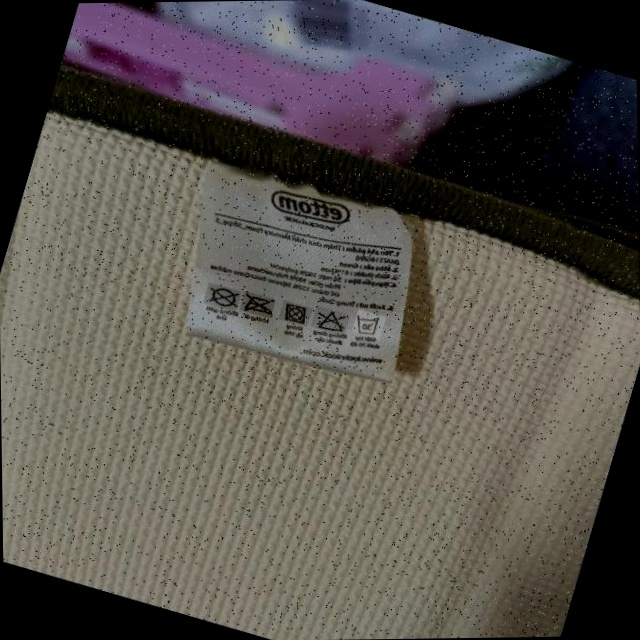30C: (353, 311, 380, 336)
DN_bleach: (314, 307, 345, 333)
DN_dry_clean: (204, 284, 239, 312)
DN_iron: (240, 291, 274, 316)
DN_tumble_dry: (281, 298, 308, 326)
